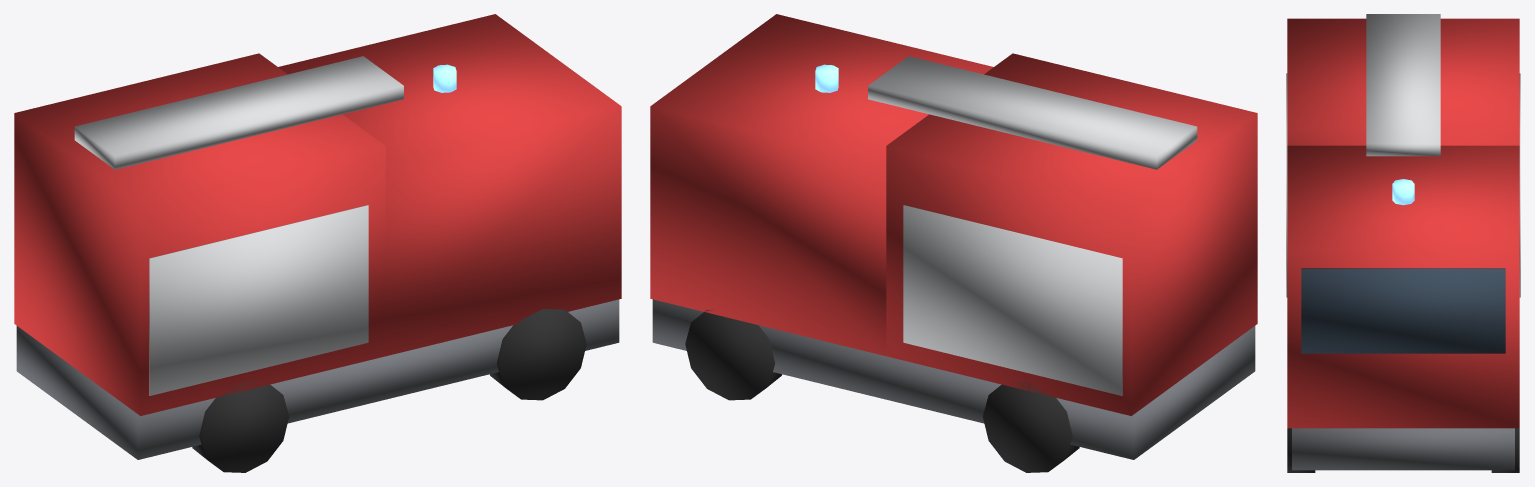
Rendered from fire_truck.glb.
3 renders of one model, left to right at view 1: azimuth 30°, elevation 25°; view 2: azimuth 150°, elevation 25°; view 3: azimuth 270°, elevation 25°, orthographic. The views are drawn at different scales.
Parts seen in each view (by area): view 1: fire_truck; view 2: fire_truck; view 3: fire_truck.
Boxes of the visible parts, bbox=[...] form: fire_truck: bbox=[14, 14, 621, 472]; fire_truck: bbox=[650, 14, 1257, 472]; fire_truck: bbox=[1286, 14, 1520, 472].
Size of the model in its own units: 5.53 by 3.35 by 2.52.
